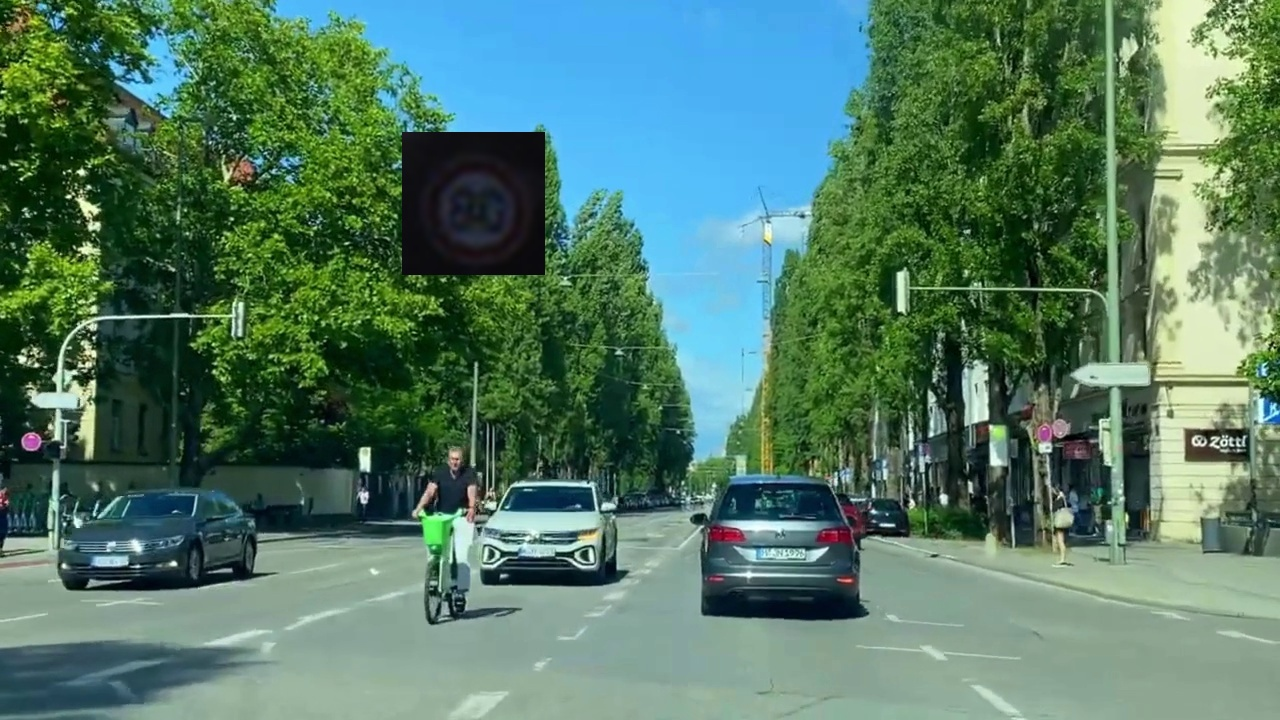Speed 80: (402, 132, 545, 275)
